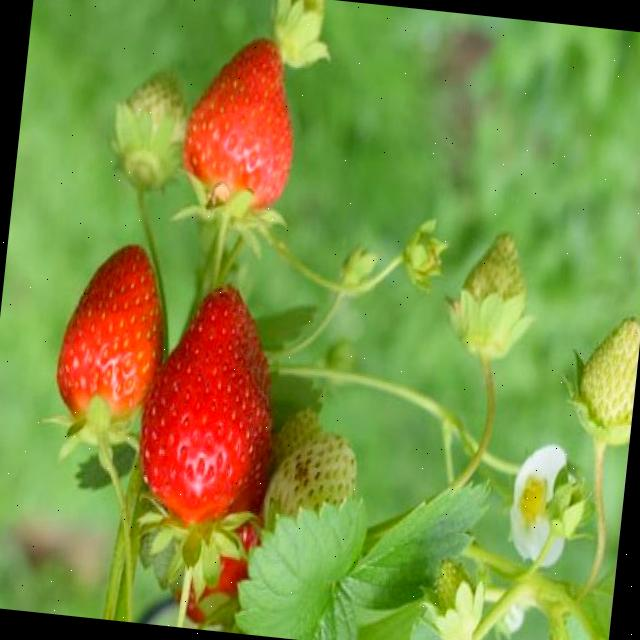strawberry: (131, 278, 294, 532), (176, 32, 306, 212), (52, 240, 174, 430), (261, 428, 360, 540), (452, 230, 532, 362), (112, 64, 192, 188), (575, 314, 640, 449)
